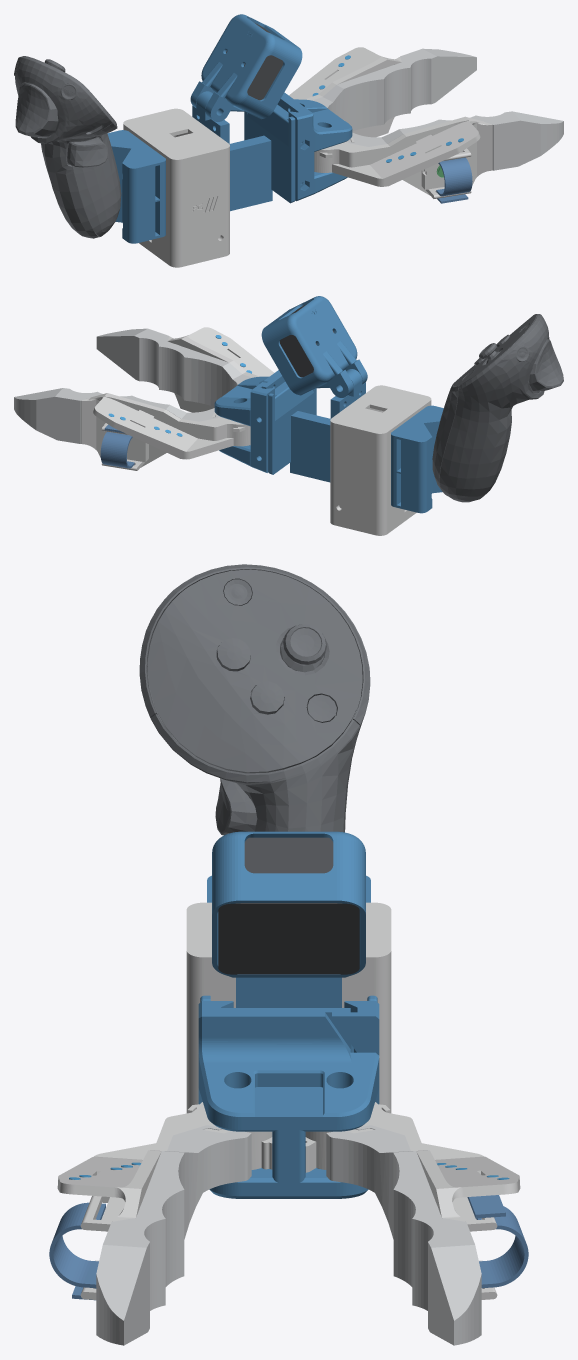
Rendered from chopstick_right.glb.
The picture shows the model from 3 angles, top to bottom: view 1: azimuth 30°, elevation 25°; view 2: azimuth 150°, elevation 25°; view 3: azimuth 270°, elevation 25°; orthographic projection. The views are drawn at different scales.
Parts seen in each view (by area): view 1: quest_controller_envelope, ebox, jaw_right_dc_button, tip_tpu_left, d405_cup, d405_frame, quest_cradle, tip_tpu_right, chopstick_base_dc, jaw_left_dc, sleeve_strap_right, d405_envelope (+1 smaller); view 2: quest_controller_envelope, ebox, jaw_left_dc, tip_tpu_right, d405_cup, d405_frame, quest_cradle, tip_tpu_left, jaw_right_dc_button, chopstick_base_dc, chopstick_clip_dc, sleeve_strap_left (+2 smaller); view 3: quest_controller_envelope, chopstick_base_dc, tip_tpu_left, tip_tpu_right, d405_envelope, d405_cup, ebox, jaw_right_dc_button, jaw_left_dc, d405_frame, sleeve_strap_left, sleeve_strap_right (+1 smaller).
Boxes of the visible parts, x1,y1,x2,y2 form: quest_controller_envelope: [14, 56, 121, 238]; ebox: [123, 108, 229, 264]; jaw_right_dc_button: [314, 116, 492, 198]; tip_tpu_left: [312, 48, 476, 131]; d405_cup: [190, 14, 302, 121]; d405_frame: [192, 91, 295, 211]; quest_cradle: [107, 130, 165, 243]; tip_tpu_right: [348, 111, 563, 170]; chopstick_base_dc: [277, 92, 352, 201]; jaw_left_dc: [289, 47, 401, 137]; sleeve_strap_right: [436, 157, 472, 203]; d405_envelope: [226, 23, 283, 100]; quest_controller_envelope: [432, 314, 563, 502]; ebox: [330, 385, 431, 532]; jaw_left_dc: [81, 393, 250, 470]; tip_tpu_right: [96, 328, 251, 406]; d405_cup: [261, 296, 367, 397]; d405_frame: [268, 369, 365, 482]; quest_cradle: [391, 405, 443, 513]; tip_tpu_left: [14, 388, 218, 443]; jaw_right_dc_button: [167, 327, 273, 412]; chopstick_base_dc: [214, 370, 285, 466]; chopstick_clip_dc: [250, 382, 274, 472]; sleeve_strap_left: [100, 424, 134, 468]; quest_controller_envelope: [139, 564, 370, 835]; chopstick_base_dc: [198, 1001, 379, 1198]; tip_tpu_left: [326, 1125, 481, 1345]; tip_tpu_right: [96, 1125, 251, 1345]; d405_envelope: [218, 837, 359, 974]; d405_cup: [212, 831, 365, 977]; ebox: [186, 902, 391, 1113]; jaw_right_dc_button: [57, 1102, 272, 1299]; jaw_left_dc: [305, 1102, 520, 1299]; d405_frame: [200, 977, 377, 1052]; sleeve_strap_left: [467, 1195, 528, 1288]; sleeve_strap_right: [49, 1202, 105, 1300].
Bounding box in the file's own units: 0.3322 × 0.1388 × 0.1405.
